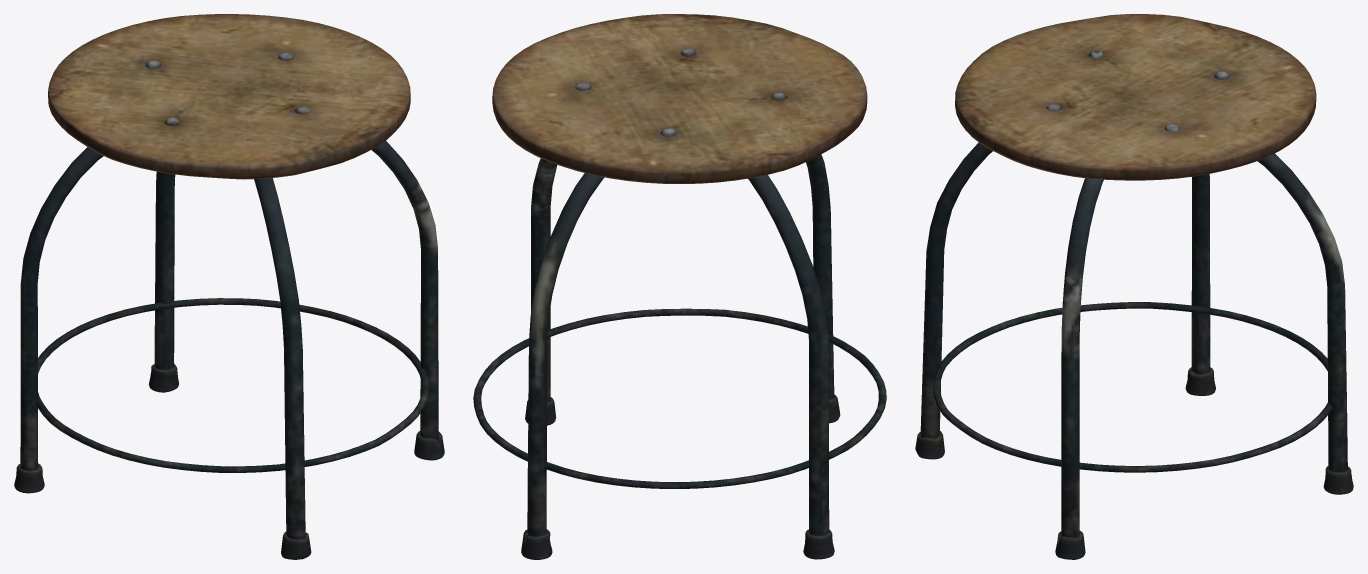
Rendered from stool_2.glb.
3 renders of one model, left to right at view 1: azimuth 30°, elevation 25°; view 2: azimuth 150°, elevation 25°; view 3: azimuth 270°, elevation 25°, orthographic. The views are drawn at different scales.
Visible parts, largest first — view 1: metal_stool_02; view 2: metal_stool_02; view 3: metal_stool_02.
Part boxes in pixels (bbox=[...]): metal_stool_02: bbox=[14, 14, 444, 559]; metal_stool_02: bbox=[473, 14, 886, 559]; metal_stool_02: bbox=[915, 14, 1353, 559].
Bounding box in the file's own units: 0.4481 × 0.4581 × 0.4731.
1 material, 1 textured.
